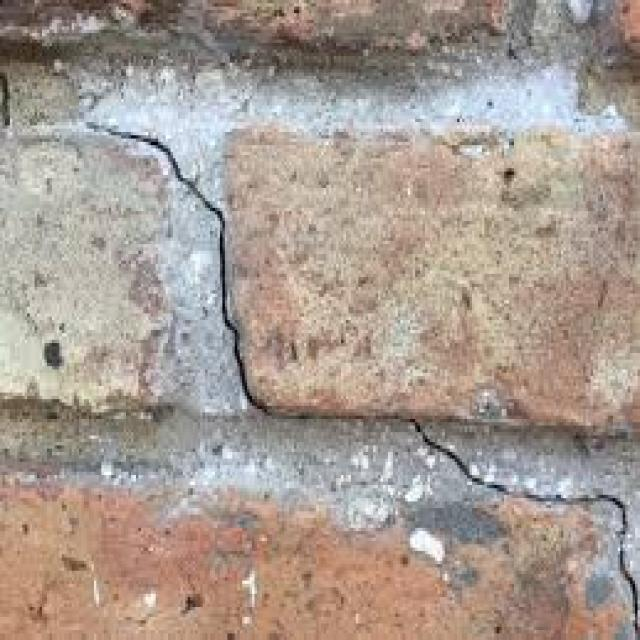Crack: (74, 119, 638, 636)
